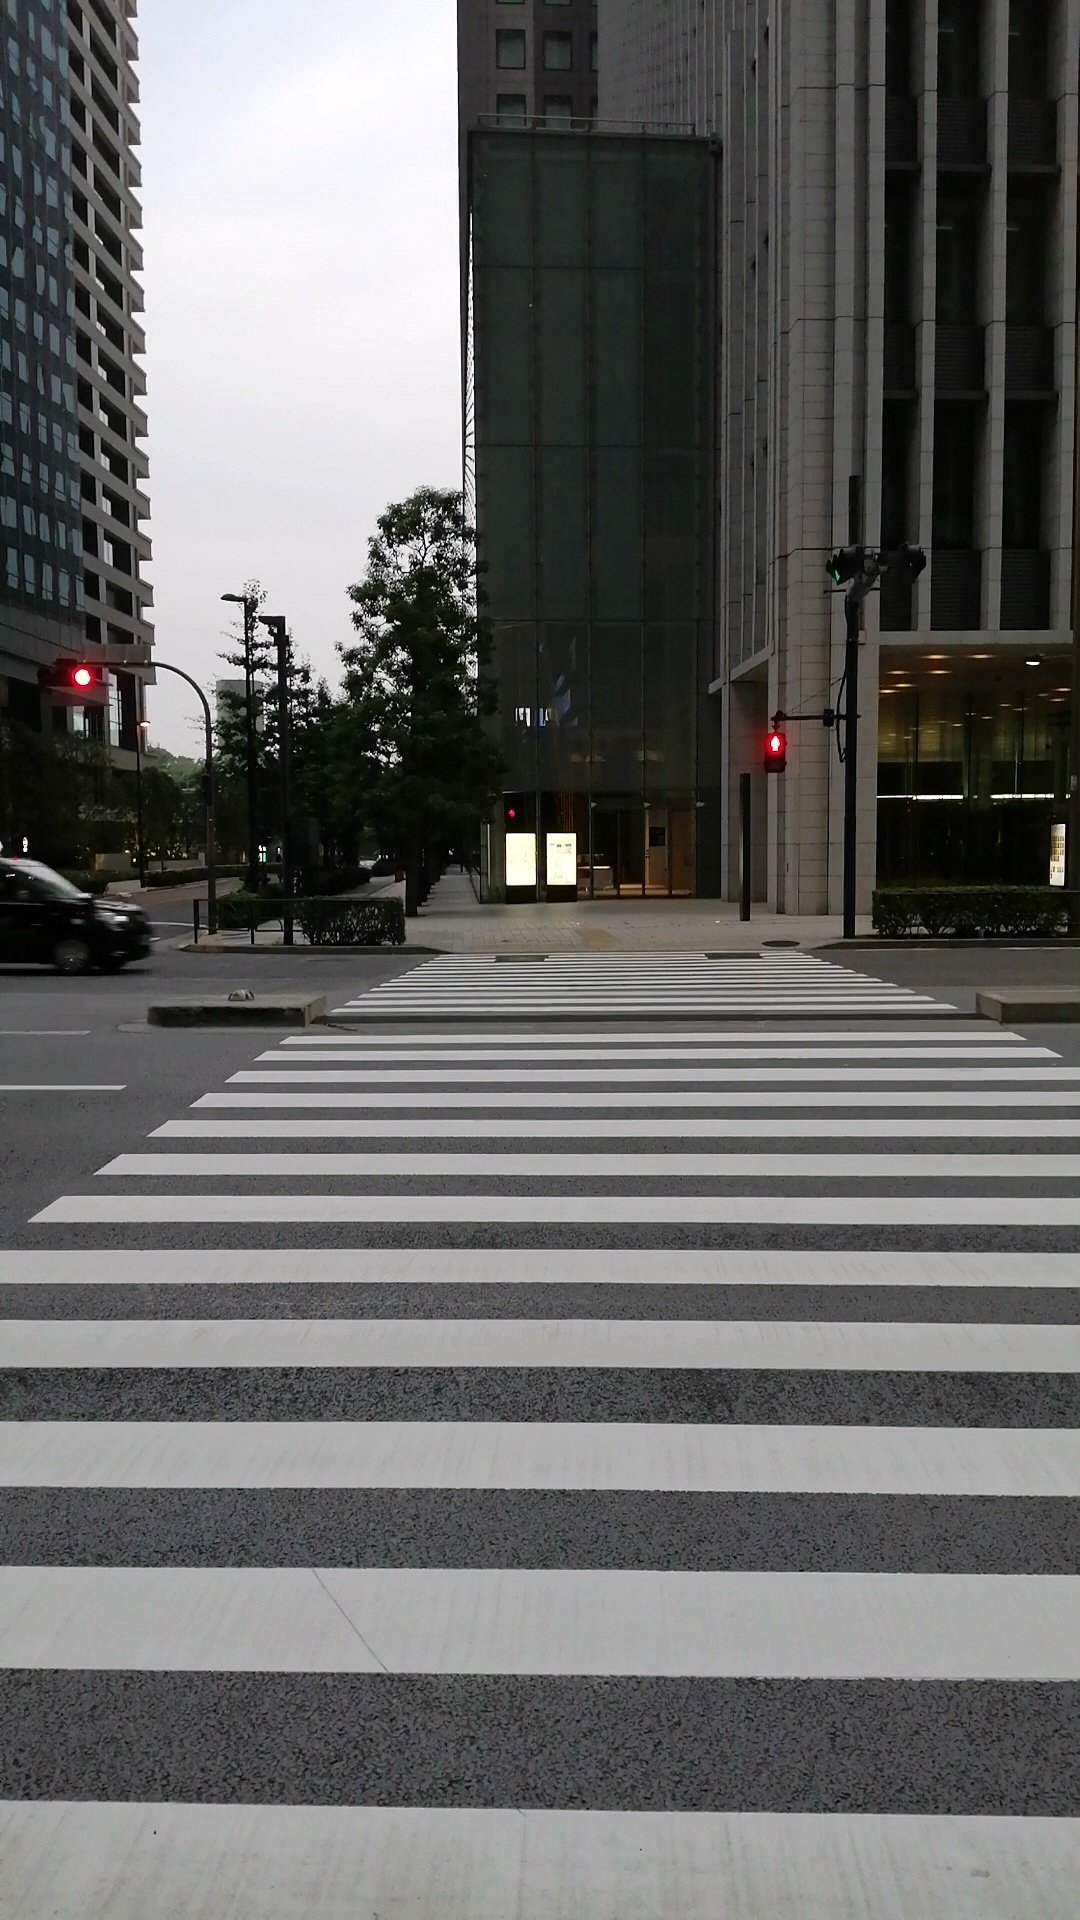red: (758, 731, 790, 778)
